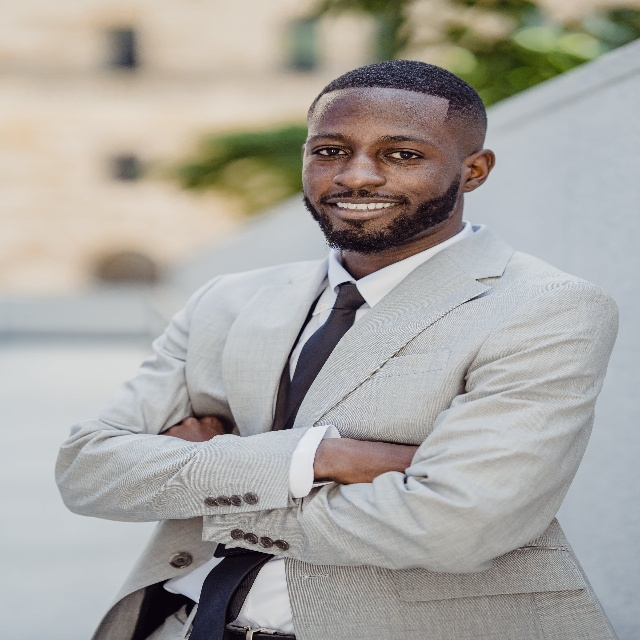Sin_guantes: (325, 438, 421, 484), (157, 409, 226, 442)
